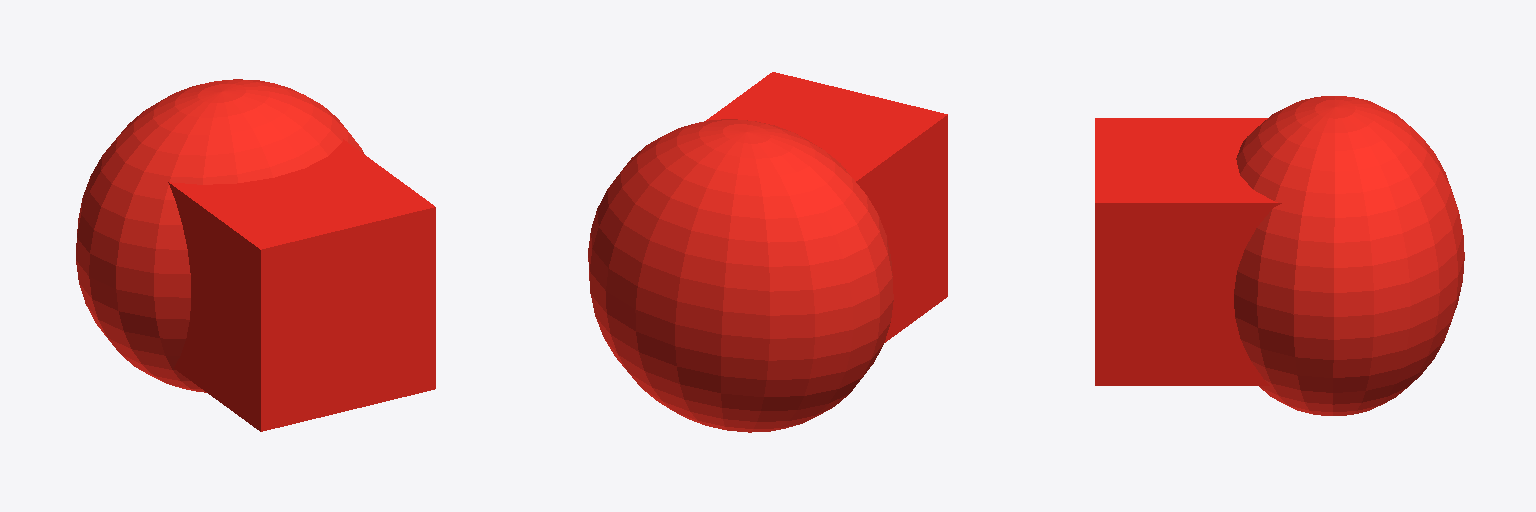
File: bullet.obj
3 renders of one model, left to right at view 1: azimuth 30°, elevation 25°; view 2: azimuth 150°, elevation 25°; view 3: azimuth 270°, elevation 25°, orthographic.
Visible parts, largest first — view 1: pCube2; view 2: pCube2; view 3: pCube2.
Boxes of the visible parts, <box> form: pCube2: <box>76,79,435,431</box>; pCube2: <box>588,72,947,432</box>; pCube2: <box>1095,96,1464,415</box>.
Bounding box in the file's own units: 1.92 × 1.92 × 2.2.